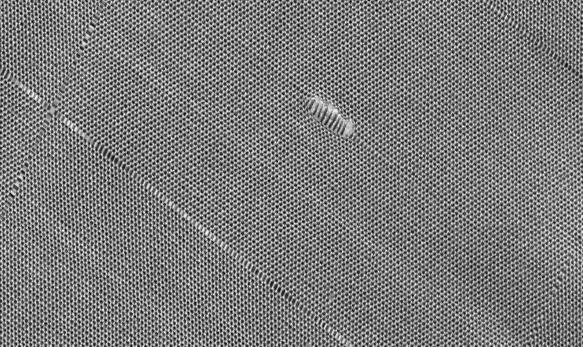slub: (300, 90, 356, 144)
